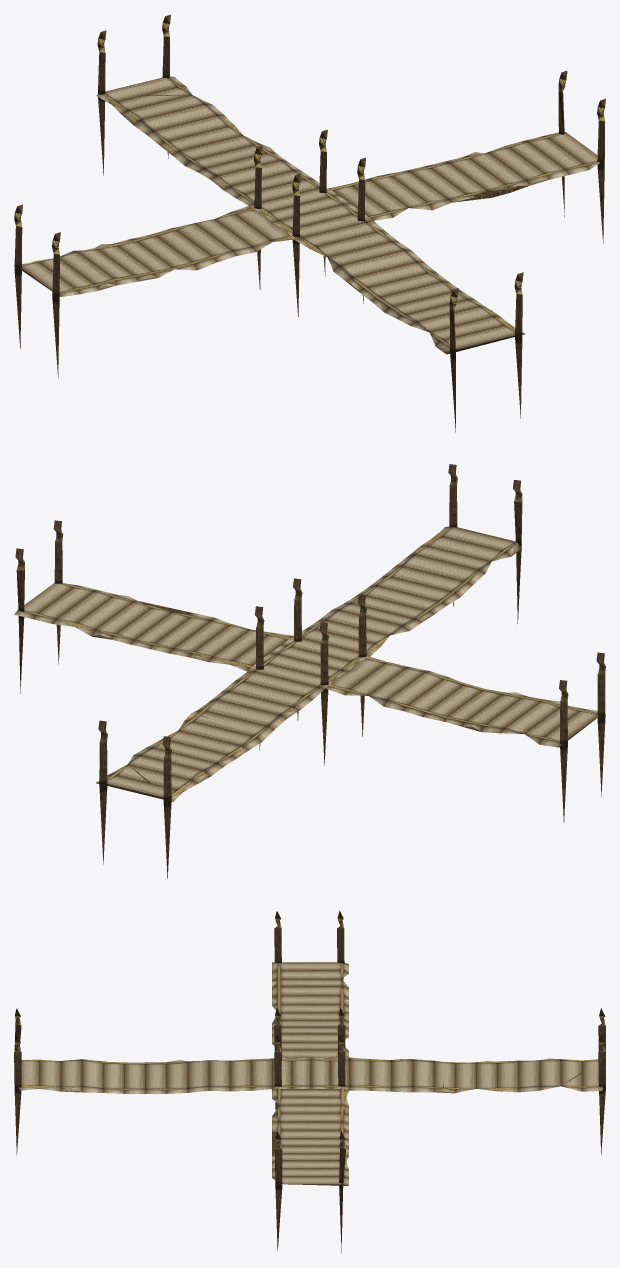
Rendered from p2_platform1_X_LOD1.fbx.
3 views of the same model, one above another, from view 1: azimuth 30°, elevation 25°; view 2: azimuth 150°, elevation 25°; view 3: azimuth 270°, elevation 25° (orthographic). The views are drawn at different scales.
Parts seen in each view (by area): view 1: polymsh; view 2: polymsh; view 3: polymsh.
Part boxes in pixels (bbox=[...]): polymsh: bbox=[14, 14, 605, 432]; polymsh: bbox=[14, 464, 605, 878]; polymsh: bbox=[14, 910, 605, 1252].
Size of the model in its own units: 707 by 179 by 789.
